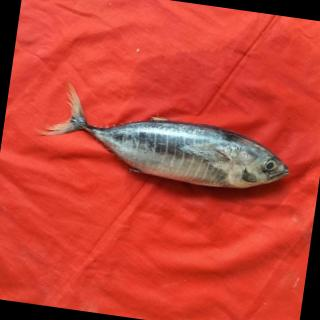Ikan: (38, 80, 308, 216)
